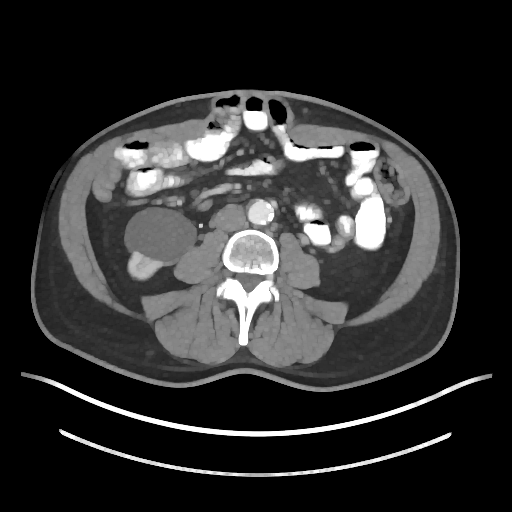Lesion: (125, 208, 198, 262)
